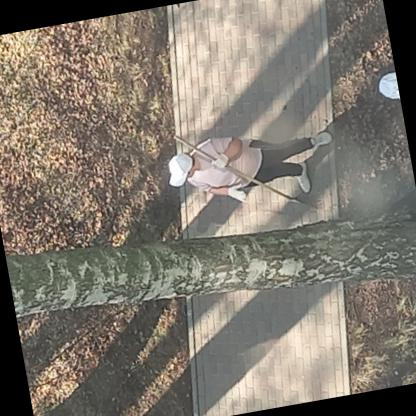Human Body: (152, 106, 344, 226)
